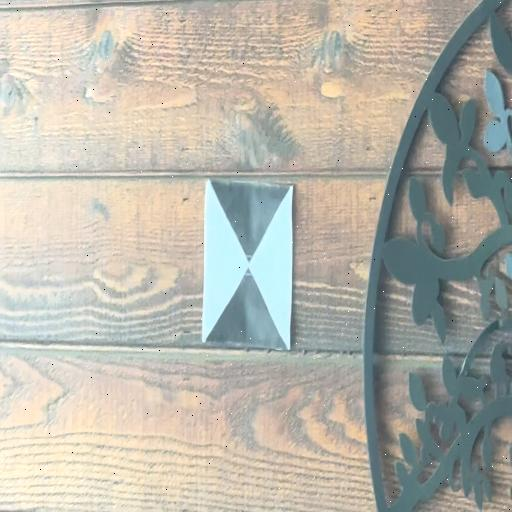target: (201, 180, 292, 350)
